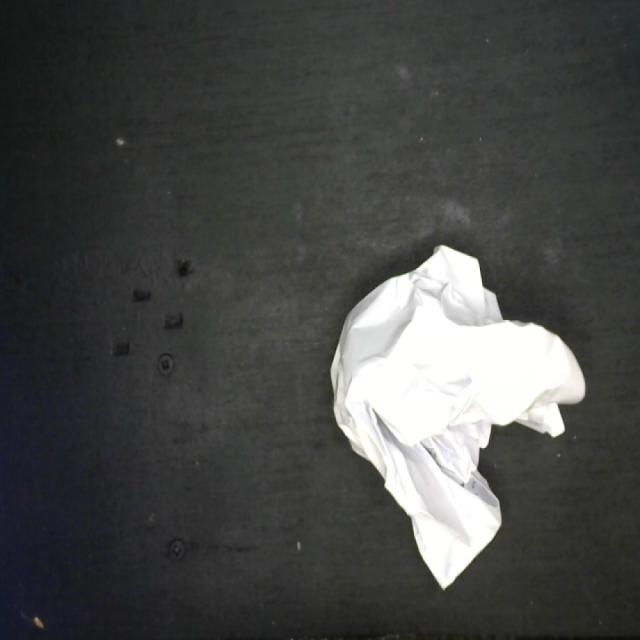biodegradable: (328, 241, 588, 597)
